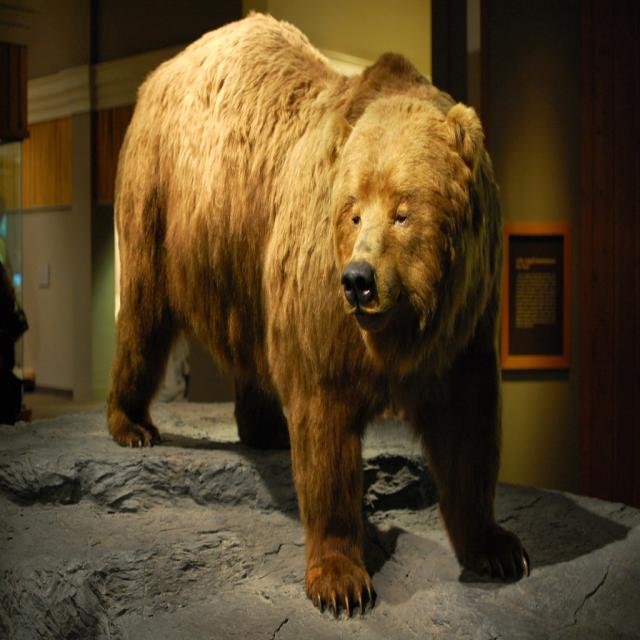Cheetahs: (104, 8, 532, 621)
